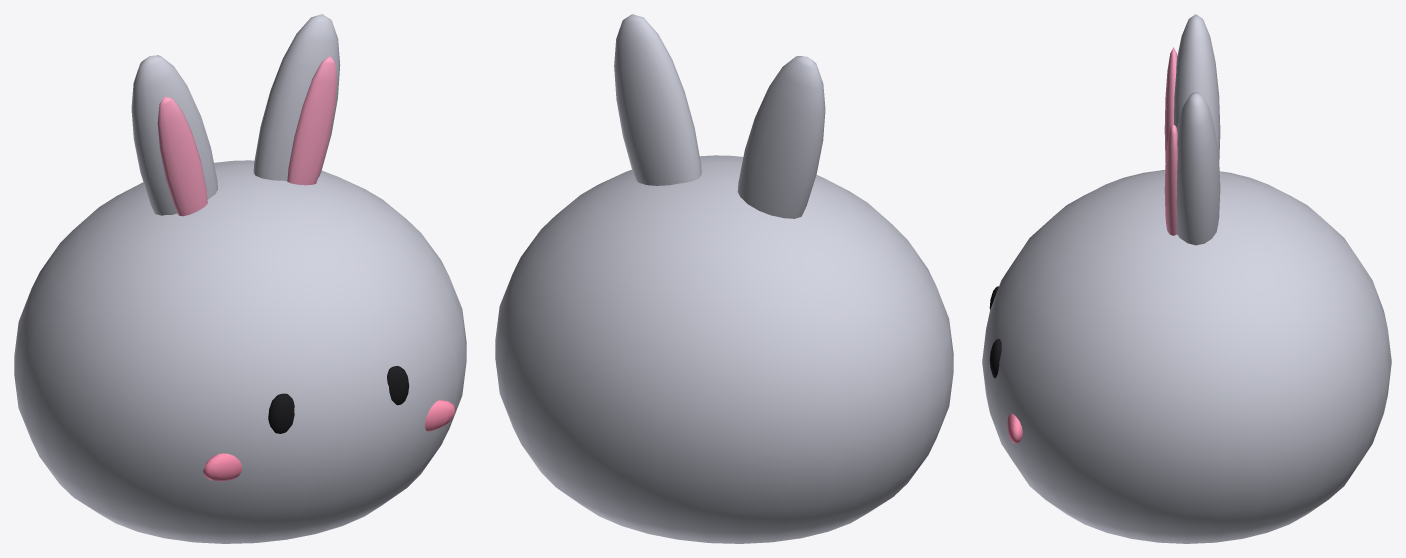
The model's file is tavsan.glb.
The picture shows the model from 3 angles, left to right: view 1: azimuth 30°, elevation 25°; view 2: azimuth 150°, elevation 25°; view 3: azimuth 270°, elevation 25°; orthographic projection. The views are drawn at different scales.
Parts seen in each view (by area): view 1: tavsan; view 2: tavsan; view 3: tavsan.
Part boxes in pixels (left/top/right/bottom): tavsan: left=14, top=14, right=466, bottom=543; tavsan: left=495, top=14, right=953, bottom=543; tavsan: left=982, top=14, right=1391, bottom=543.
Size of the model in its own units: 0.8139 by 0.8879 by 0.7487.
